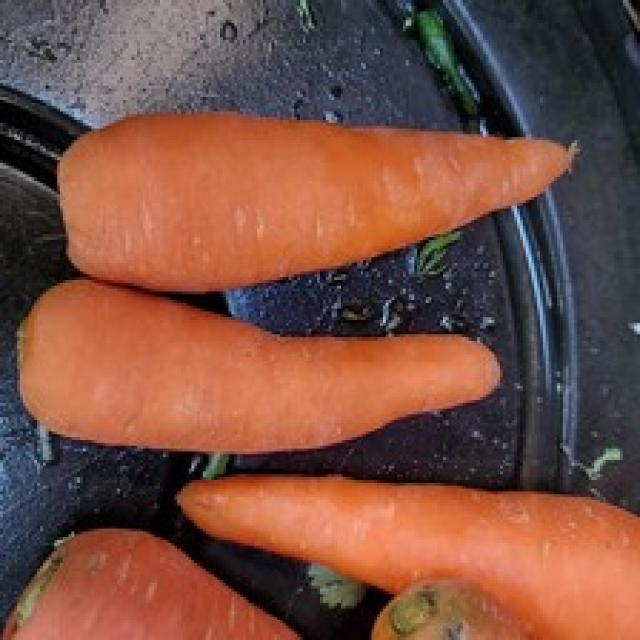carrot: (55, 104, 585, 298), (17, 278, 516, 456), (175, 474, 640, 640)
